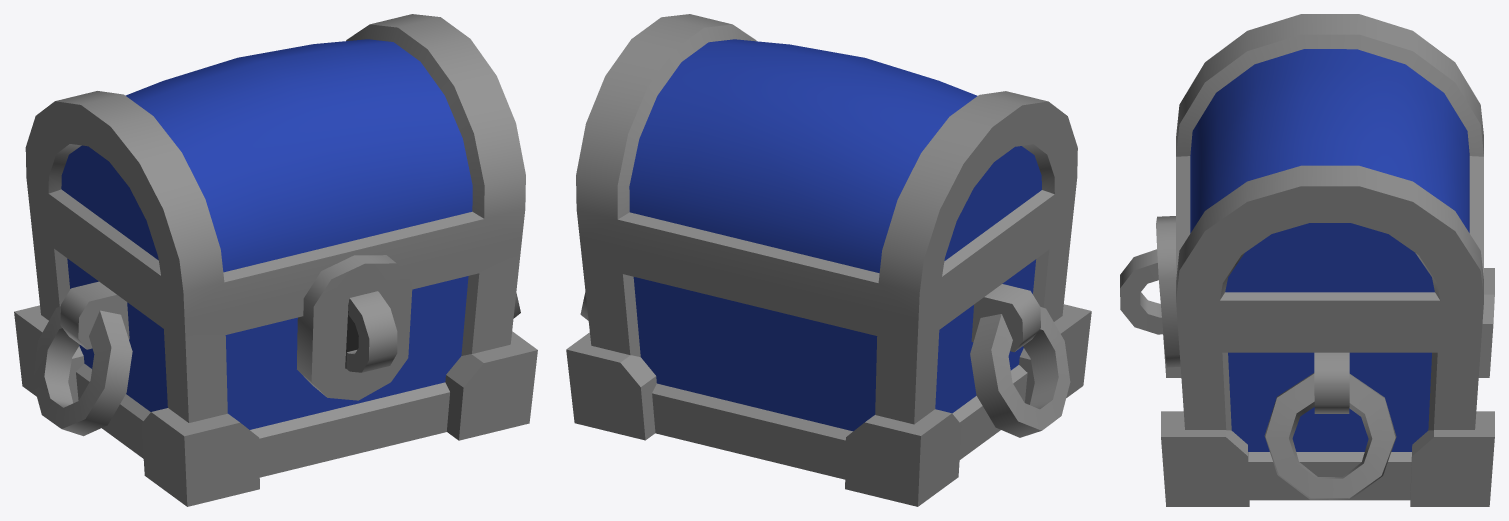
File: Chest_mm.fbx
3 views of the same model, side by side, from view 1: azimuth 30°, elevation 25°; view 2: azimuth 150°, elevation 25°; view 3: azimuth 270°, elevation 25° (orthographic). The views are drawn at different scales.
Visible parts, largest first — view 1: Cover, Chest; view 2: Cover, Chest; view 3: Cover, Chest.
Boxes of the visible parts, x1=… form: Cover: x1=25, y1=14, x2=525, y2=400; Chest: x1=14, y1=205, x2=537, y2=506; Cover: x1=576, y1=14, x2=1077, y2=319; Chest: x1=566, y1=206, x2=1091, y2=506; Cover: x1=1156, y1=14, x2=1483, y2=367; Chest: x1=1120, y1=249, x2=1494, y2=506.
Bounding box in the file's own units: 153 × 108 × 112.
